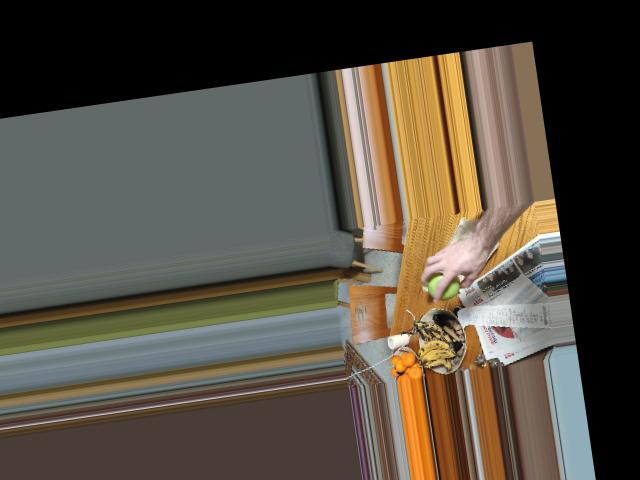apple: (425, 263, 465, 302)
